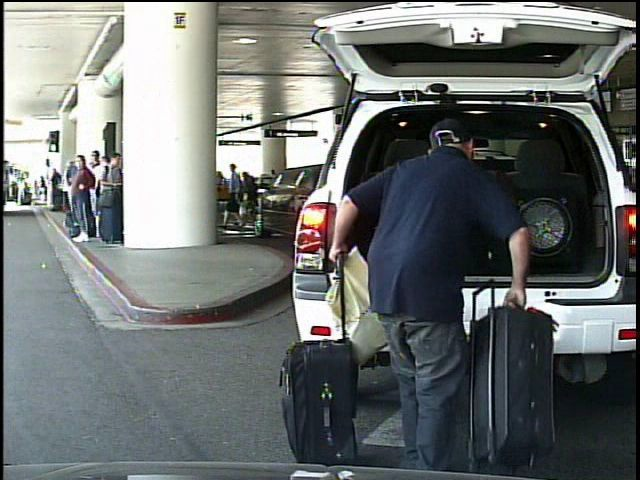person: (324, 112, 537, 463), (226, 162, 250, 238), (240, 165, 263, 231), (18, 176, 28, 207), (38, 174, 49, 202)
